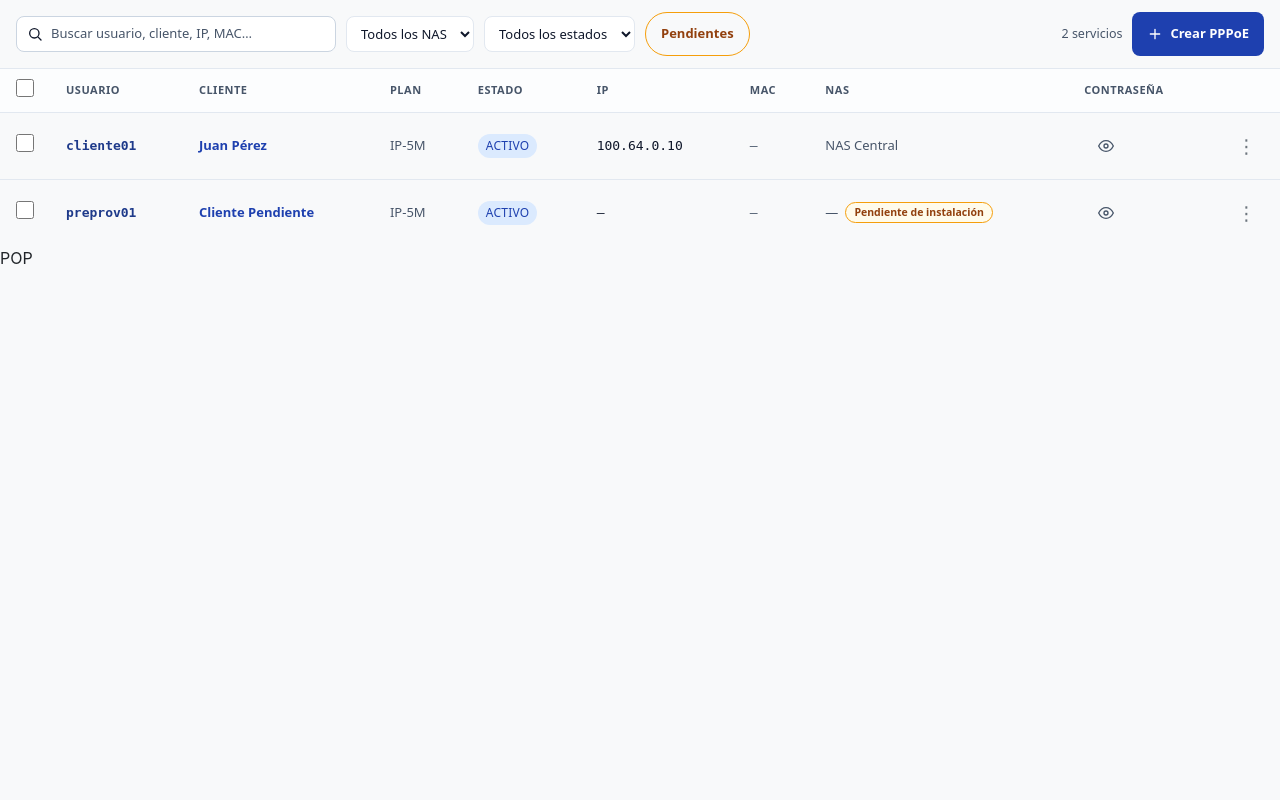
it: S5.1 (modal crear): tipo de IP obligatorio sin preselección › elegir un tipo habilita el submit y quita el hint
The width and height of the screenshot is (1280, 800).
Click the button "Crear PPPoE".
click(1198, 34)  # box [1132,12,1264,56]
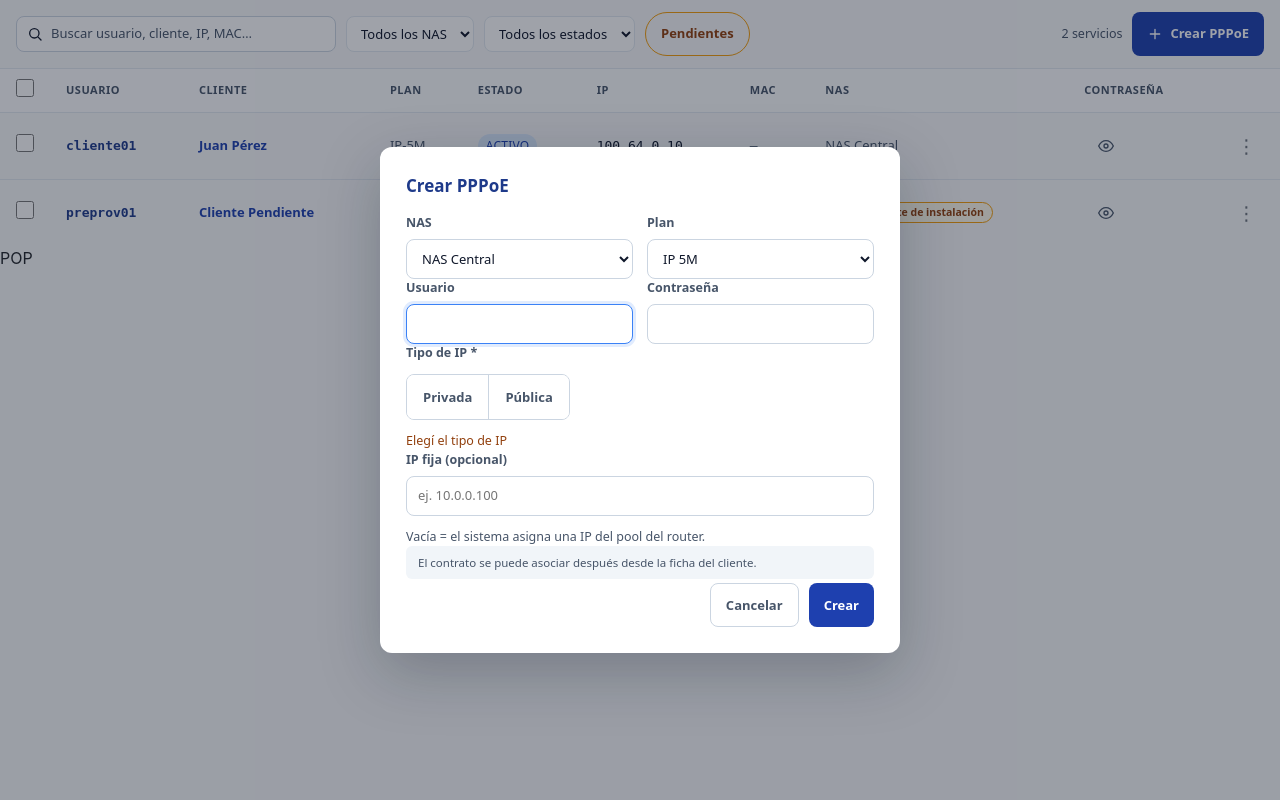
Type "nuevo01" into the field labelled "Usuario".
click(520, 324); type("nuevo01")  # box [406,304,633,344]
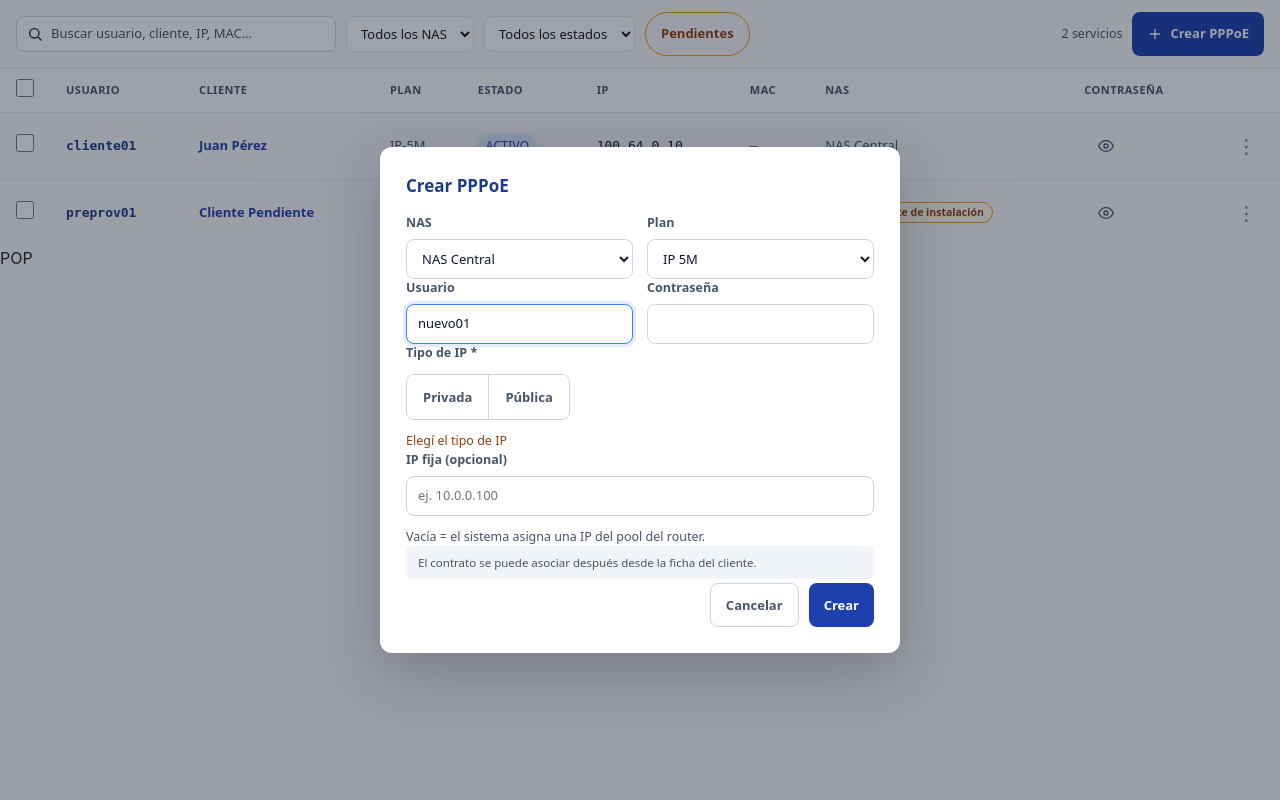
Type "pass123" into the field labelled "Contraseña".
click(760, 324); type("pass123")  # box [647,304,874,344]
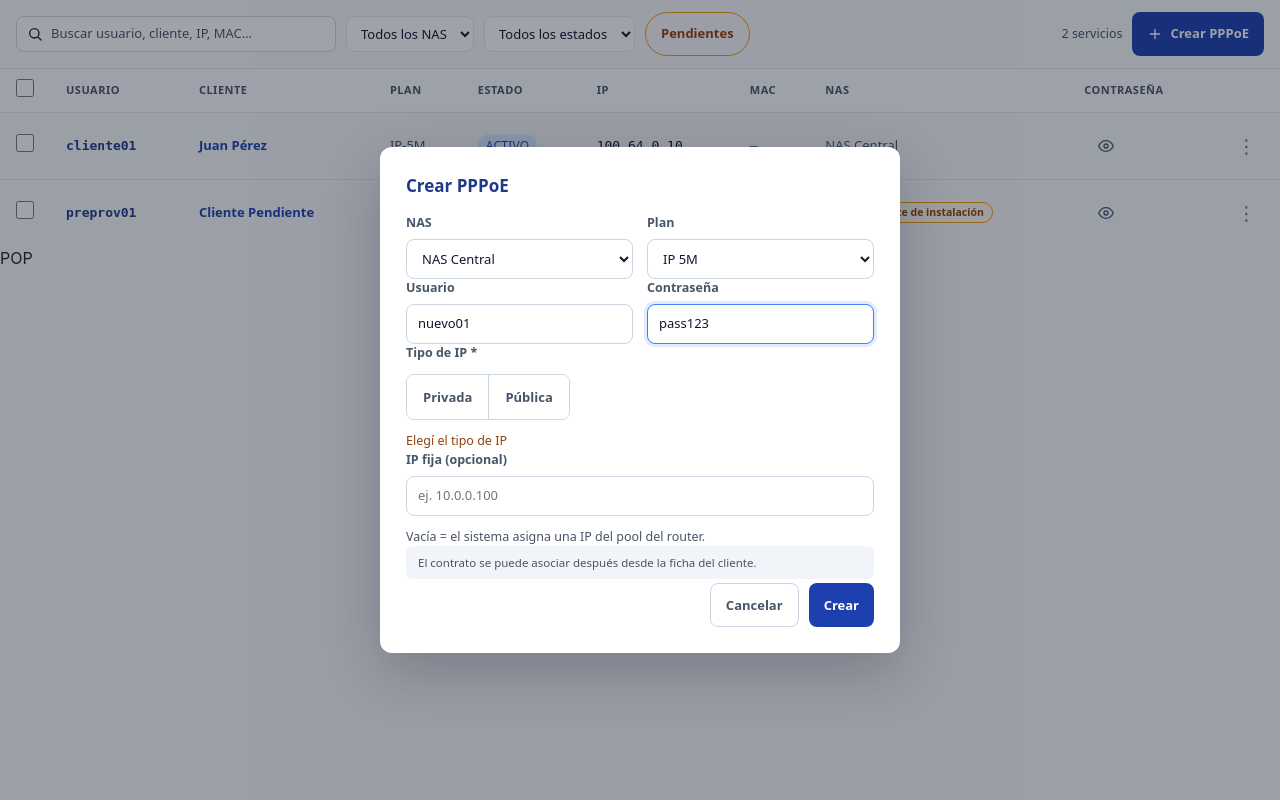
Click the button "Privada".
click(448, 397)  # box [407,375,489,419]
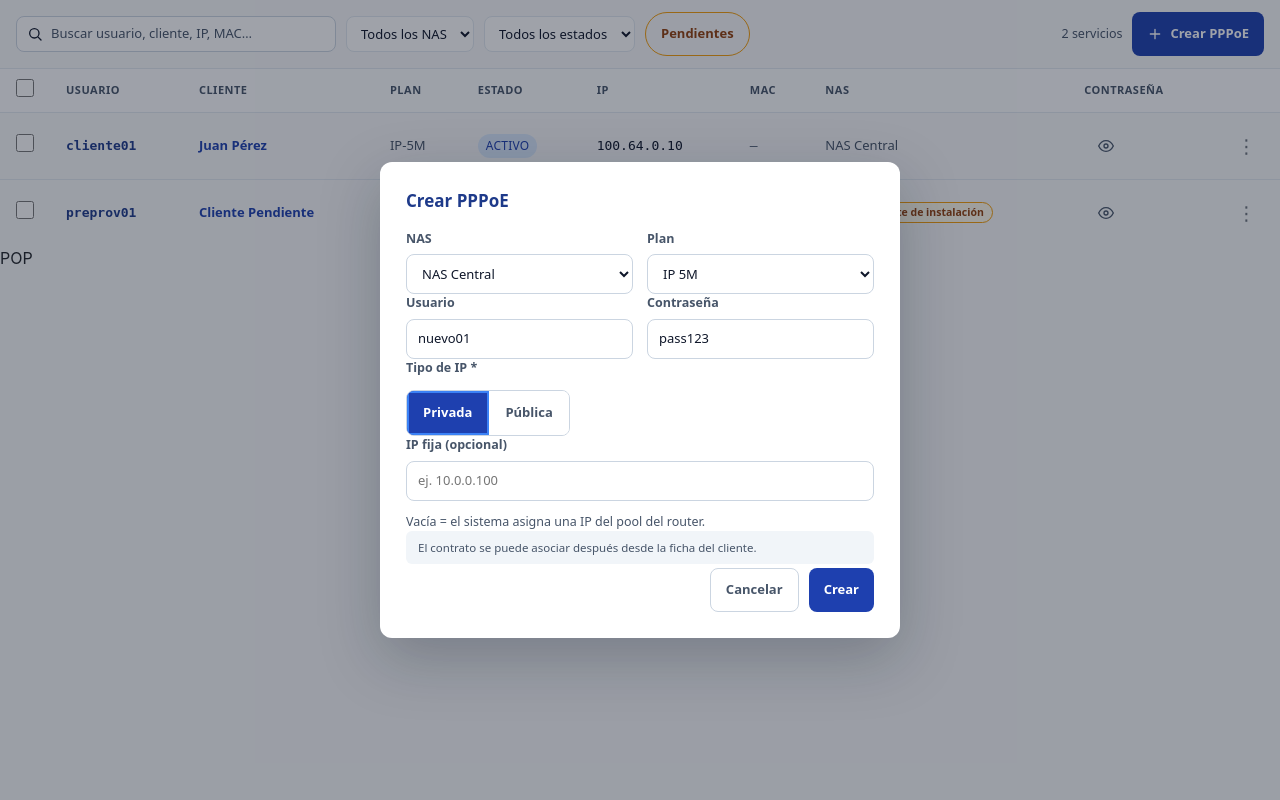
Expected: the button "Crear" is enabled, [809,568,874,612]
Expected: the text "Elegí el tipo de IP" is gone
